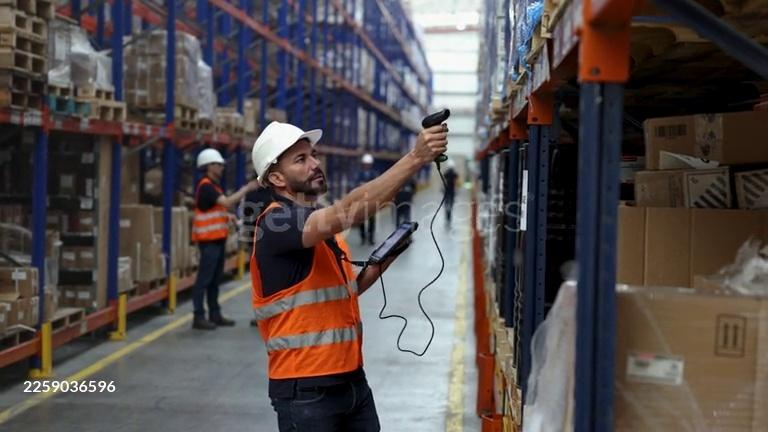helmet: (251, 121, 323, 182), (196, 148, 226, 170), (360, 154, 374, 164)
person: (248, 121, 449, 432), (190, 148, 263, 330), (351, 153, 382, 245), (394, 167, 414, 226), (443, 162, 458, 220)
